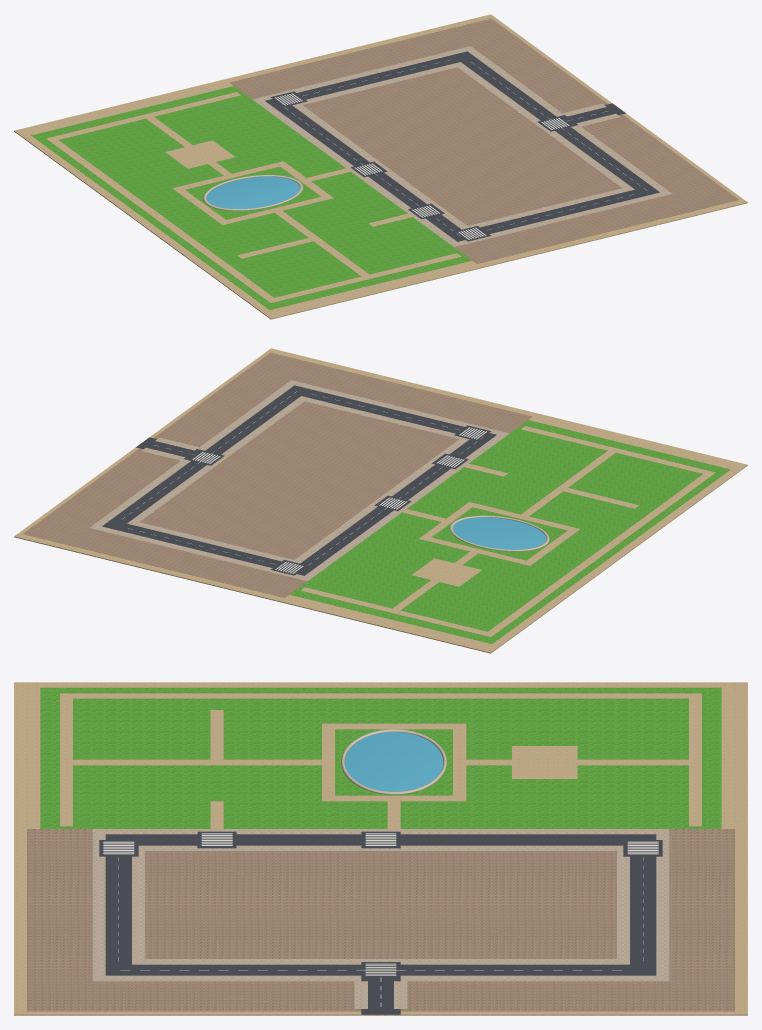
File: gastro_ground.gltf
3 renders of one model, top to bottom at view 1: azimuth 30°, elevation 25°; view 2: azimuth 150°, elevation 25°; view 3: azimuth 270°, elevation 25°, orthographic. The views are drawn at different scales.
Parts seen in each view (by area): view 1: ground_c-col, ground_g-col, base_slab-col, ground_s-col, ground_a-col, ground_p-col, pond_water, ground_z-col, road_marks, pond_rim-col; view 2: ground_c-col, ground_g-col, base_slab-col, ground_s-col, ground_a-col, ground_p-col, pond_water, ground_z-col, road_marks, pond_rim-col; view 3: ground_c-col, ground_g-col, base_slab-col, ground_s-col, ground_a-col, ground_p-col, pond_water, ground_z-col, road_marks, pond_rim-col.
Boxes of the visible parts, x1,y1,x2,y2 form: ground_c-col: (229,18,738,263); ground_g-col: (31,86,471,309); base_slab-col: (14,14,747,319); ground_s-col: (252,46,672,246); ground_a-col: (265,51,659,241); ground_p-col: (46,92,460,302); pond_water: (206,176,299,208); ground_z-col: (270,91,573,241); road_marks: (275,60,646,239); pond_rim-col: (203,175,303,210); ground_c-col: (23,352,532,597); ground_g-col: (290,420,730,643); base_slab-col: (14,348,747,653); ground_s-col: (89,380,509,580); ground_a-col: (102,385,496,575); ground_p-col: (301,426,715,636); pond_water: (453,517,546,549); ground_z-col: (188,425,491,575); road_marks: (122,391,486,573); pond_rim-col: (449,515,549,551); ground_c-col: (27,829,734,1011); ground_g-col: (40,687,721,828); base_slab-col: (14,682,747,1015); ground_s-col: (92,829,669,1008); ground_a-col: (105,834,656,1015); ground_p-col: (60,693,701,828); pond_water: (345,732,443,791); ground_z-col: (99,831,662,978); road_marks: (103,833,658,1006); pond_rim-col: (341,729,446,794).
Size of what is drawn, in the model's own units: 240 by 0.96 by 224.
Materials: 8 (5 with a texture image).
